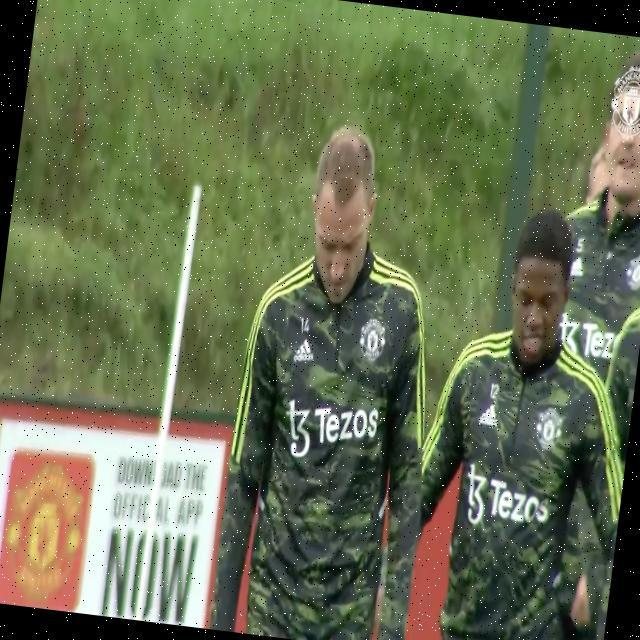Adidas: (292, 335, 317, 365), (478, 400, 500, 428), (569, 252, 587, 280)
